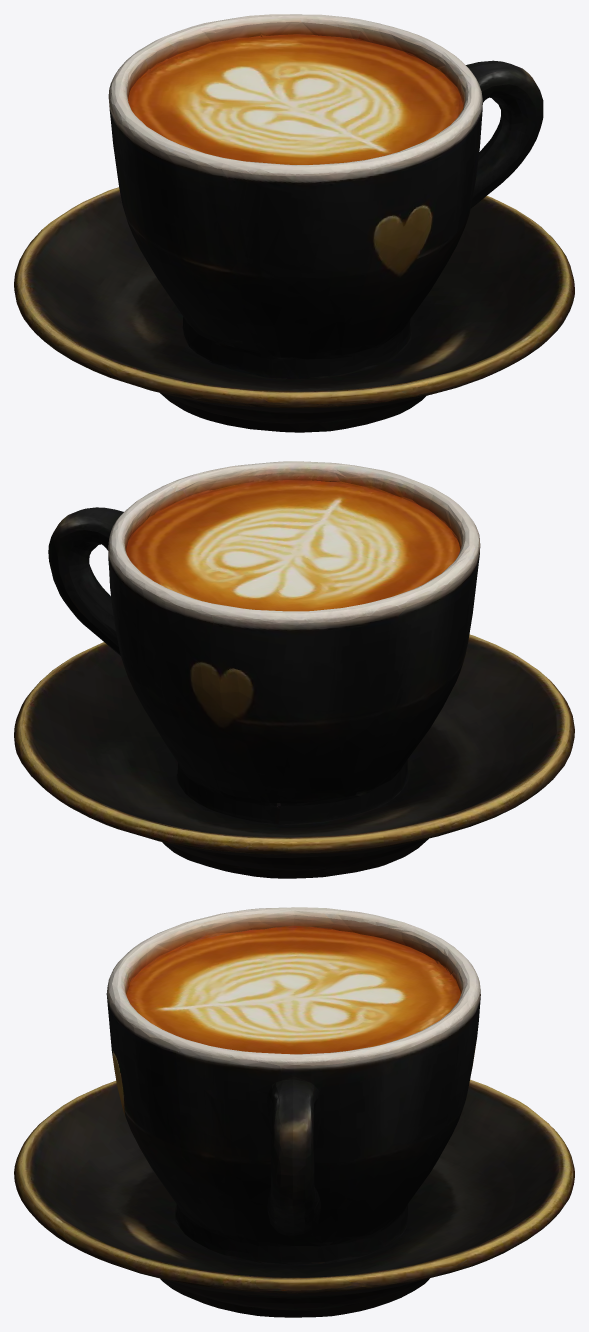
File: black-heart-coffee.glb
The picture shows the model from 3 angles, top to bottom: view 1: azimuth 30°, elevation 25°; view 2: azimuth 150°, elevation 25°; view 3: azimuth 270°, elevation 25°; orthographic projection.
Parts seen in each view (by area): view 1: world; view 2: world; view 3: world.
Part boxes in pixels (box(x1,y1,x2,y2)): world: box(14, 14, 574, 432); world: box(14, 461, 574, 878); world: box(14, 907, 574, 1317).
Size of the model in its own units: 0.9854 by 0.5458 by 0.9973.
Materials: 1 (1 with a texture image).
